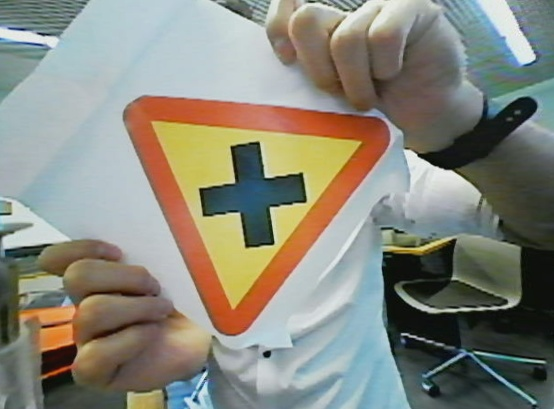junction: (111, 84, 414, 338)
